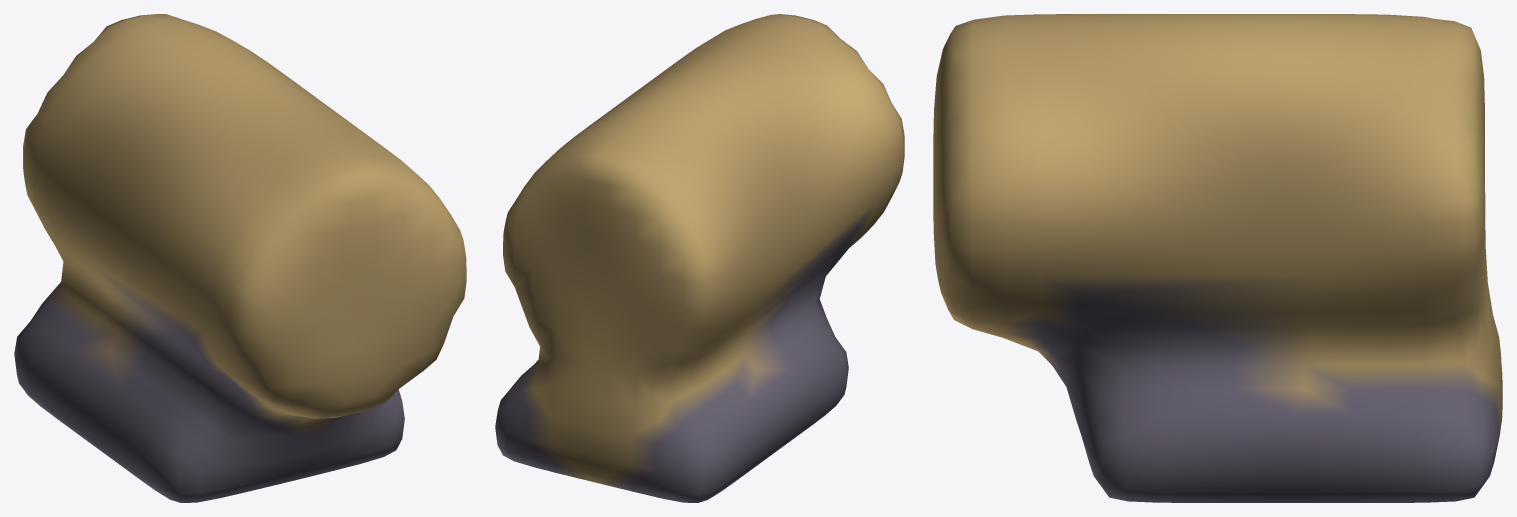
Rendered from beam_emitter.glb.
3 views of the same model, side by side, from view 1: azimuth 30°, elevation 25°; view 2: azimuth 150°, elevation 25°; view 3: azimuth 270°, elevation 25° (orthographic). The views are drawn at different scales.
Visible parts, largest first — view 1: emitter; view 2: emitter; view 3: emitter.
Boxes of the visible parts, bbox=[...] form: emitter: bbox=[14, 14, 466, 502]; emitter: bbox=[495, 14, 904, 502]; emitter: bbox=[933, 14, 1502, 502].
Size of the model in its own units: 0.607 by 0.8411 by 1.03.
Materials: 1 (1 with a texture image).
